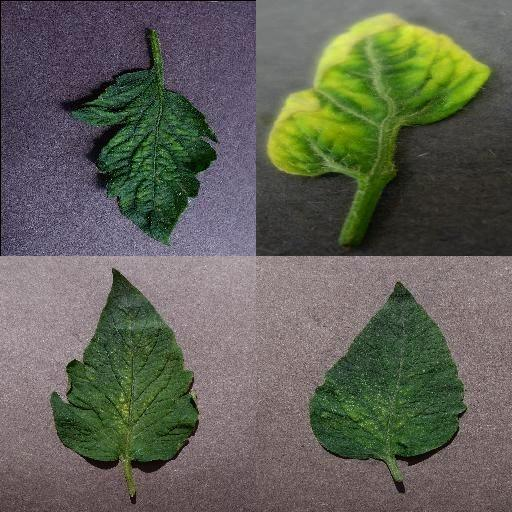Mosaic Virus: (67, 68, 219, 248)
Spider Mites: (52, 268, 200, 462), (309, 279, 467, 459)
Yellow Leaf Curl Virus: (266, 13, 490, 181)
